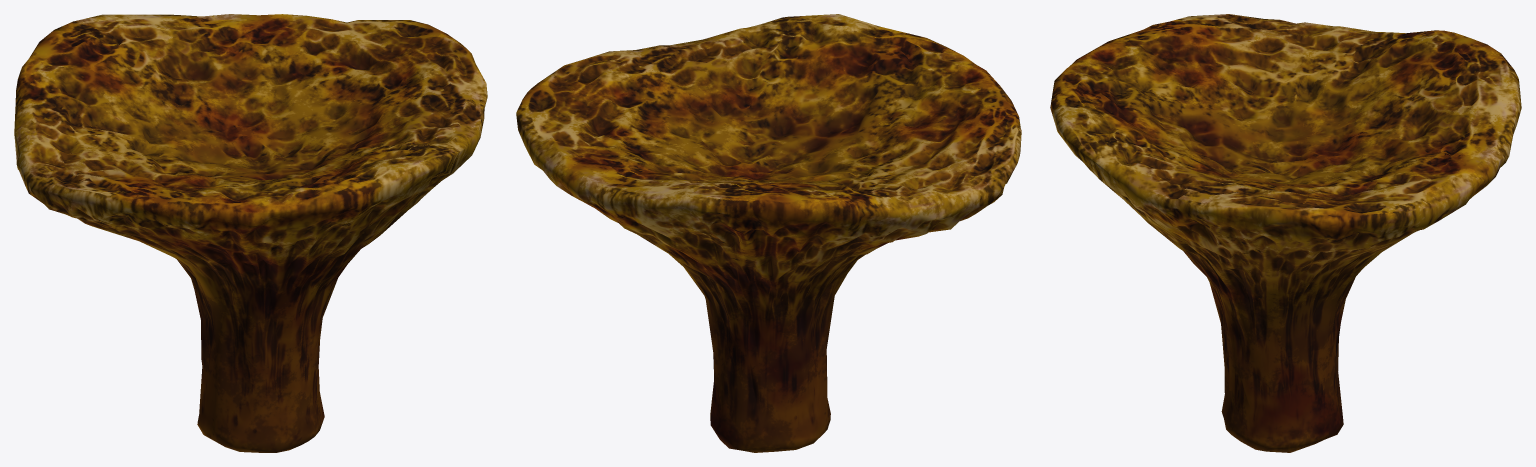
File: SM_Coral_Table.fbx
The picture shows the model from 3 angles, left to right: view 1: azimuth 30°, elevation 25°; view 2: azimuth 150°, elevation 25°; view 3: azimuth 270°, elevation 25°; orthographic projection. The views are drawn at different scales.
Visible parts, largest first — view 1: SM_Coral_Table_LOD0; view 2: SM_Coral_Table_LOD0; view 3: SM_Coral_Table_LOD0.
Boxes of the visible parts, x1,y1,x2,y2 form: SM_Coral_Table_LOD0: (14, 14, 487, 452); SM_Coral_Table_LOD0: (516, 14, 1021, 452); SM_Coral_Table_LOD0: (1050, 14, 1521, 452).
Size of the model in its own units: 117 by 109 by 86.92.
